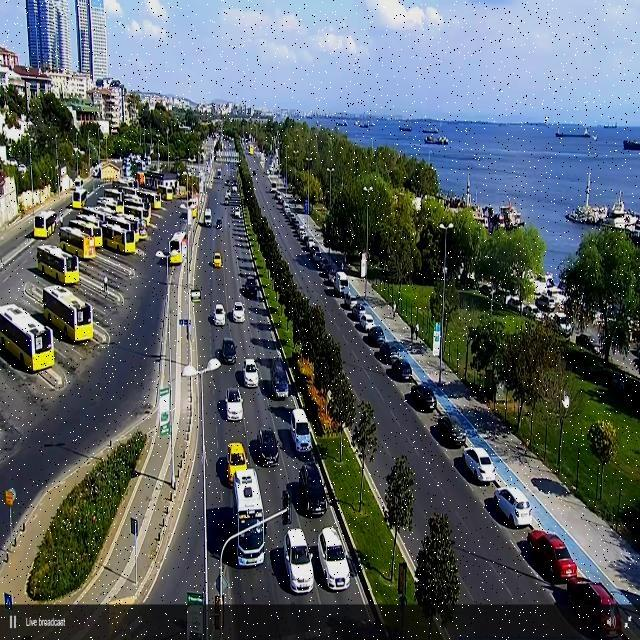Bus: (42, 283, 94, 344), (232, 470, 265, 566), (36, 243, 80, 285), (32, 210, 58, 240), (168, 231, 187, 266), (72, 188, 86, 210), (204, 208, 212, 226), (216, 169, 222, 177)
Car: (569, 578, 620, 635), (528, 530, 576, 581), (318, 526, 352, 591), (283, 527, 315, 594), (299, 462, 328, 516), (495, 487, 534, 527), (463, 448, 495, 482), (252, 428, 280, 466), (226, 442, 249, 486), (436, 415, 466, 444), (407, 384, 437, 412), (271, 360, 290, 397), (224, 388, 244, 420), (378, 341, 404, 364), (242, 356, 260, 388), (390, 357, 412, 381), (352, 302, 372, 328), (220, 338, 237, 364), (366, 326, 386, 347), (334, 272, 348, 296), (213, 304, 226, 326), (232, 302, 246, 322), (244, 276, 258, 296), (312, 250, 326, 268), (296, 220, 308, 239), (213, 251, 223, 268), (306, 239, 318, 253), (190, 289, 201, 302), (282, 202, 291, 215), (18, 164, 27, 174), (276, 192, 284, 203), (215, 219, 222, 229), (270, 184, 277, 193)
Van: (290, 408, 312, 451)
